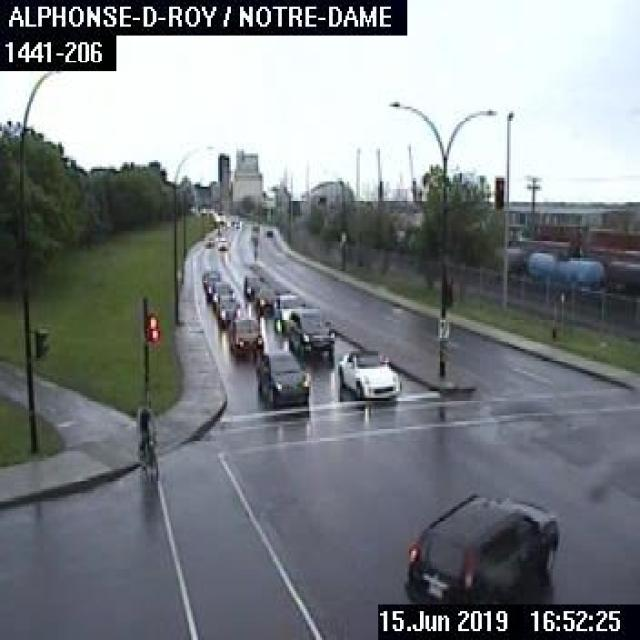cyclist: (134, 404, 156, 476)
vehicle: (402, 489, 558, 600), (333, 345, 400, 404), (251, 346, 310, 412), (284, 304, 336, 357), (225, 313, 264, 359), (270, 292, 301, 330), (253, 285, 277, 314), (241, 273, 263, 301), (217, 300, 240, 326), (212, 282, 232, 306), (214, 236, 227, 253)
